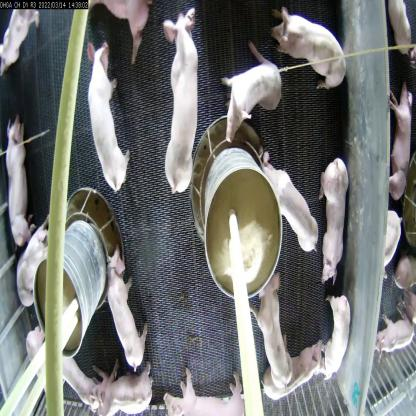Pig: (162, 9, 212, 192), (215, 32, 284, 162), (87, 33, 141, 193), (272, 0, 347, 111), (257, 150, 318, 262), (105, 244, 154, 368), (11, 221, 53, 314), (162, 369, 245, 416), (318, 161, 350, 282), (386, 82, 416, 206), (90, 353, 146, 416), (2, 2, 46, 80), (4, 120, 29, 245), (58, 345, 98, 399), (25, 330, 53, 406)
